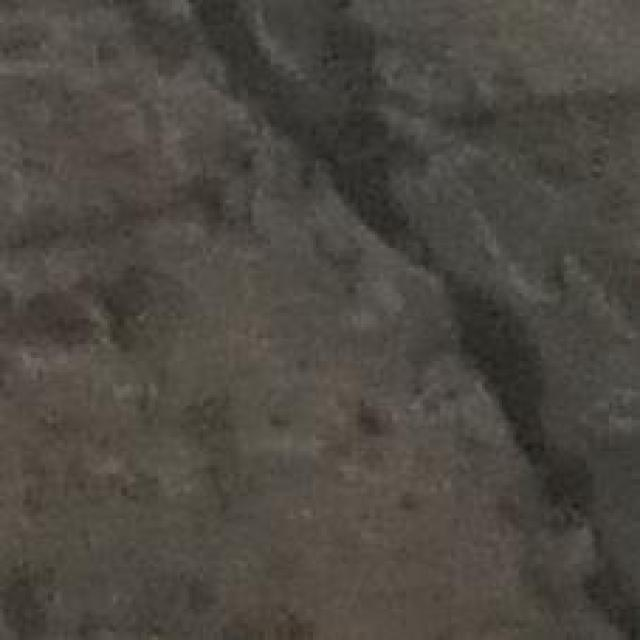Crack: (162, 2, 640, 618)
